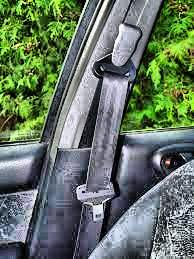seatbelt: (67, 55, 143, 256)
